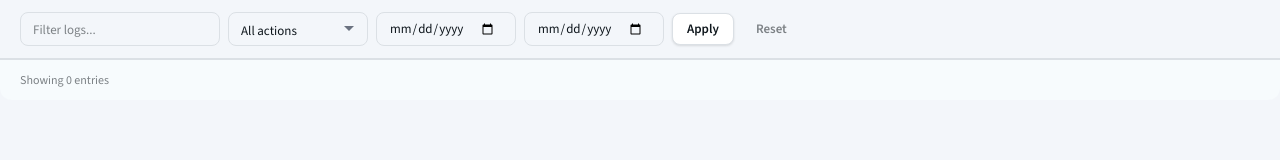
it: AdminAuditLogViewer › clears loading and shows an error when audit log loading rejects
Click the button "Apply".
click(703, 29)  # box 672,13 -> 734,45
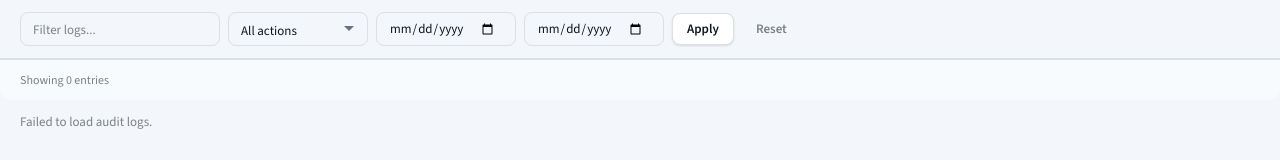
Expected: the text "Showing 0 entries" is shown, 20,72 -> 109,88
Now the text "Failed to load audit logs." is shown, box 20,113 -> 152,130
